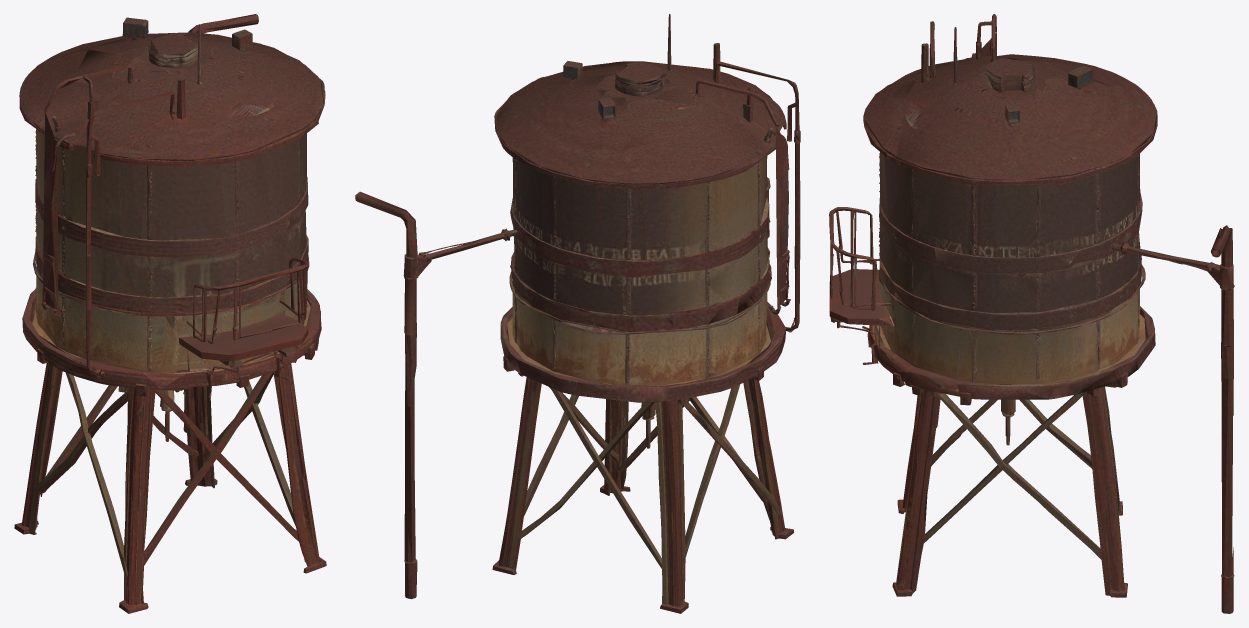
File: water-tower.glb
The picture shows the model from 3 angles, left to right: view 1: azimuth 30°, elevation 25°; view 2: azimuth 150°, elevation 25°; view 3: azimuth 270°, elevation 25°; orthographic projection. The views are drawn at different scales.
Bounding box in the file's own units: 1.21 × 1.9 × 1.33.
1 material, 1 textured.
